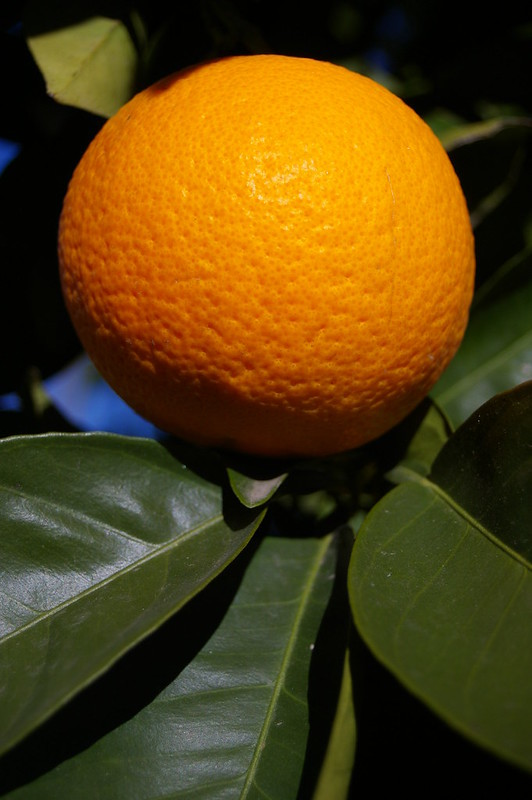orange: (50, 42, 483, 451)
